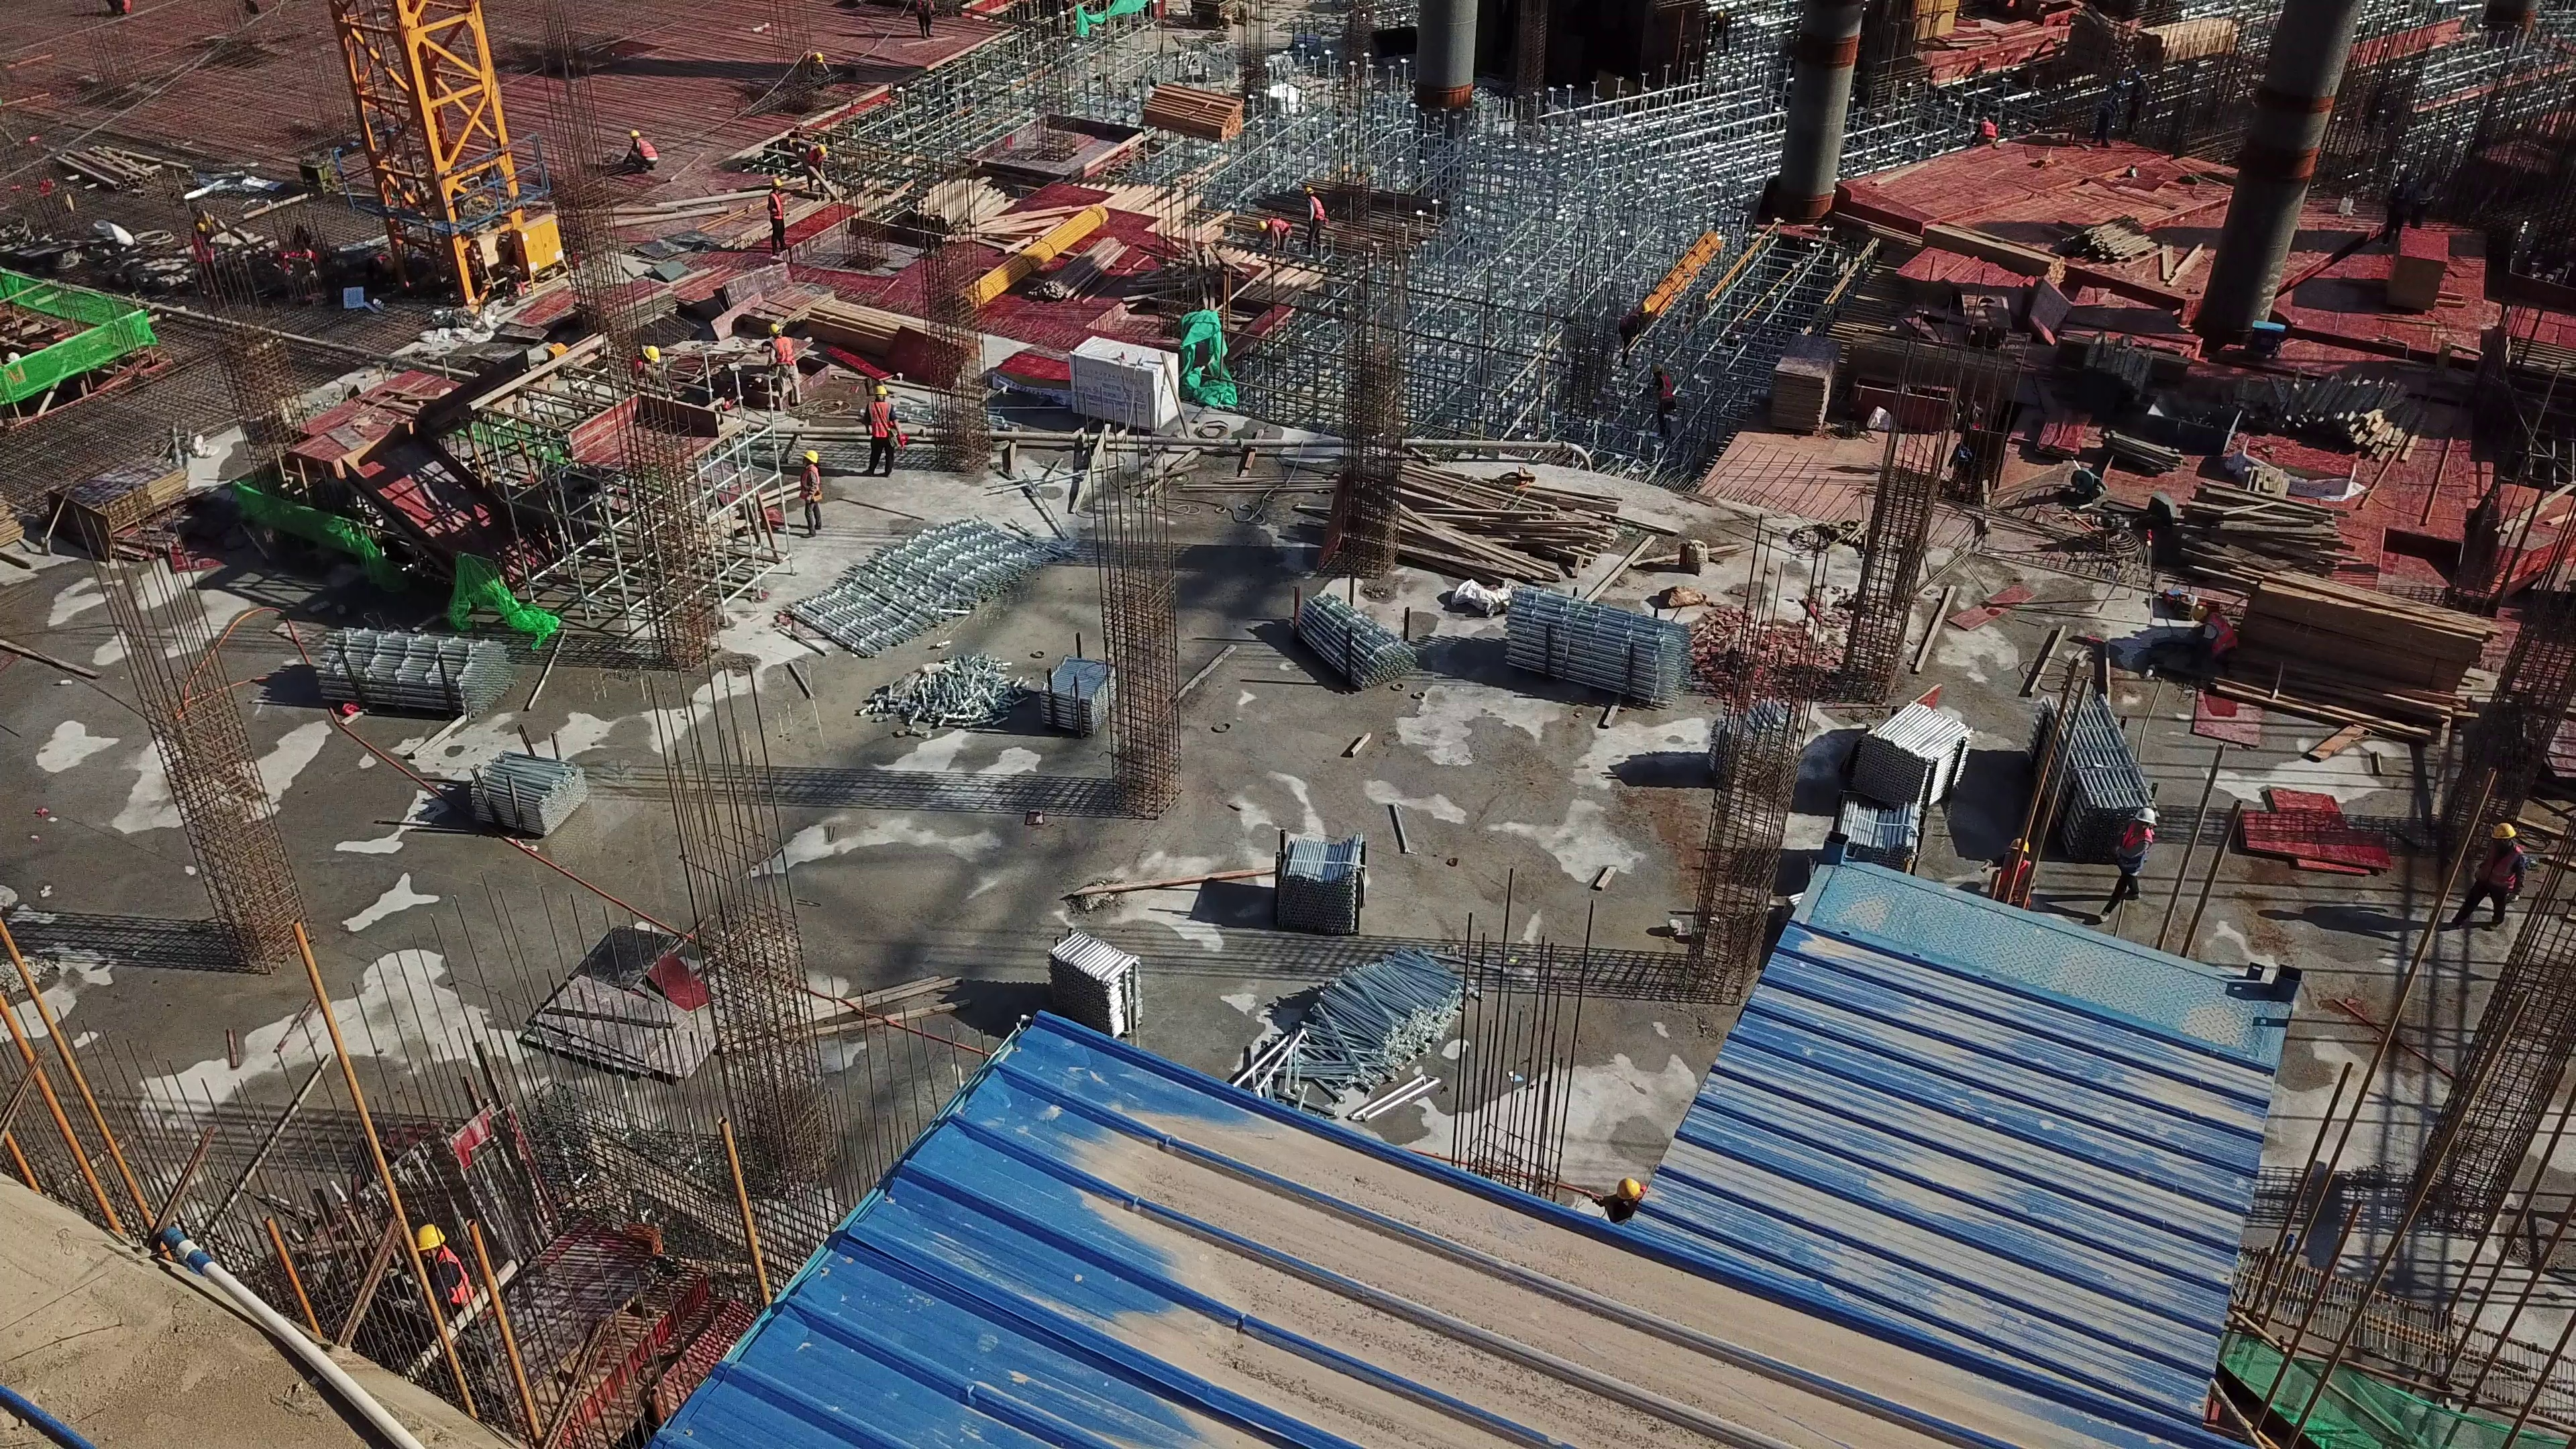board: (47, 455, 186, 550), (1770, 319, 1840, 435), (2390, 233, 2442, 315)
helmet: (1610, 1173, 1643, 1209), (412, 1224, 446, 1254), (2484, 817, 2517, 847), (2006, 839, 2034, 865), (2129, 805, 2157, 831), (2191, 602, 2211, 626), (767, 319, 785, 339), (641, 341, 660, 360), (814, 138, 832, 156), (1638, 301, 1656, 319), (627, 124, 644, 142), (1301, 184, 1319, 199), (870, 384, 890, 398), (769, 177, 788, 191), (1254, 217, 1269, 236), (195, 219, 211, 235), (803, 449, 820, 464), (1654, 367, 1670, 380), (810, 49, 823, 66)
person: (409, 1214, 478, 1334), (2102, 801, 2156, 930), (2464, 816, 2519, 935), (784, 444, 831, 543), (2191, 602, 2241, 686), (1292, 179, 1333, 278), (863, 392, 904, 488), (1994, 837, 2043, 914), (764, 310, 799, 394), (1617, 297, 1652, 372), (1254, 208, 1297, 266), (188, 215, 217, 295), (1654, 364, 1680, 442), (767, 176, 793, 252), (628, 341, 665, 392), (2412, 160, 2435, 235), (805, 140, 830, 202), (2386, 167, 2408, 237), (625, 126, 654, 173), (914, 1, 939, 42), (804, 49, 829, 80), (1973, 115, 1996, 143)
scaffold: (788, 521, 1061, 645), (2035, 678, 2164, 873), (1843, 689, 1974, 876), (301, 610, 496, 733), (1513, 578, 1682, 712), (1285, 584, 1417, 692), (1280, 826, 1368, 934), (1050, 920, 1140, 1019), (475, 753, 586, 833), (1038, 649, 1118, 741)
vest: (2116, 824, 2155, 878), (2481, 847, 2522, 898), (1994, 865, 2035, 911), (2204, 617, 2237, 663), (869, 400, 893, 444), (797, 464, 822, 506), (1658, 377, 1683, 417), (1620, 315, 1648, 347), (771, 339, 794, 368), (637, 141, 659, 166), (1310, 199, 1328, 229), (768, 189, 784, 218), (1270, 217, 1291, 239), (1978, 122, 1997, 141), (807, 154, 822, 174), (631, 358, 643, 375), (918, 1, 932, 15), (804, 53, 810, 68)
wood: (2184, 488, 2502, 718), (1347, 462, 1621, 573), (805, 301, 985, 383), (2231, 377, 2418, 453), (883, 164, 1041, 243), (1861, 327, 2009, 394), (2085, 217, 2196, 278), (2065, 342, 2155, 409), (1144, 80, 1242, 142), (2135, 18, 2239, 64)
